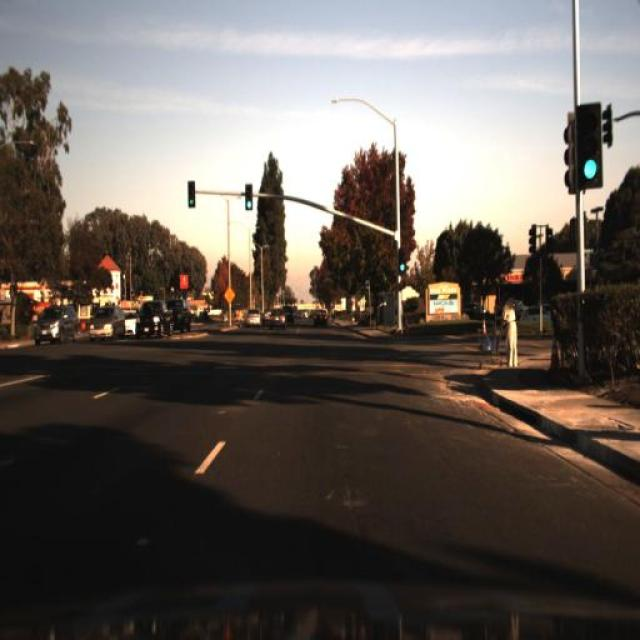car: (29, 298, 80, 347), (129, 296, 175, 340), (85, 297, 126, 339), (135, 300, 177, 335), (162, 289, 192, 329), (168, 295, 193, 343), (518, 304, 554, 325), (266, 298, 288, 331), (312, 303, 332, 333), (242, 304, 264, 330), (279, 301, 299, 328)
trafficLight: (498, 291, 520, 368)
trafficLight-GreenLeft: (242, 178, 254, 217), (244, 178, 254, 212), (398, 248, 407, 278), (398, 247, 407, 273)
trafficLight-Red: (187, 176, 198, 212), (188, 177, 196, 209)
